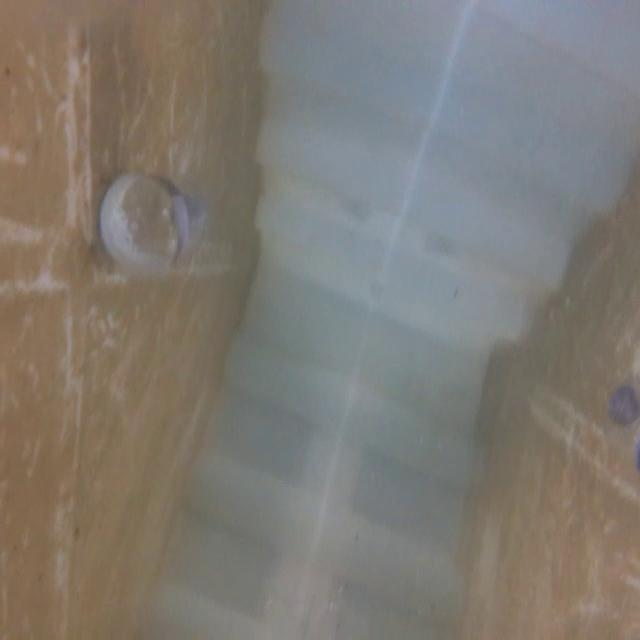plastic bottle: (80, 146, 225, 318)
